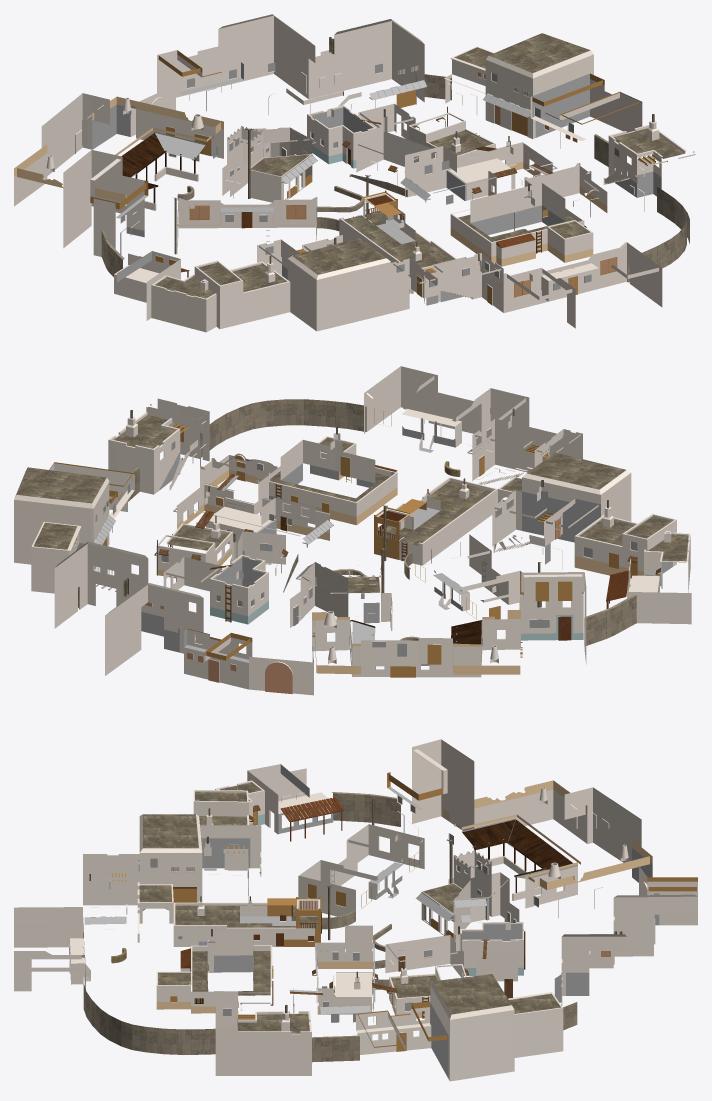
Rendered from toujane.glb.
3 views of the same model, one above another, from view 1: azimuth 30°, elevation 25°; view 2: azimuth 150°, elevation 25°; view 3: azimuth 270°, elevation 25° (orthographic). The views are drawn at different scales.
Visible parts, largest first — view 1: [85262]; view 2: [85262]; view 3: [85262].
Boxes of the visible parts, left/top/right/bottom form: [85262]: left=14, top=14, right=695, bottom=332; [85262]: left=14, top=366, right=691, bottom=695; [85262]: left=14, top=739, right=697, bottom=1081.
Size of the model in its own units: 18.53 by 2.37 by 18.6.
Materials: 28 (12 with a texture image).
